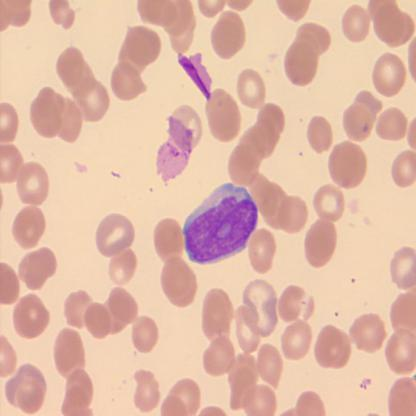Blast: (180, 179, 260, 267)
